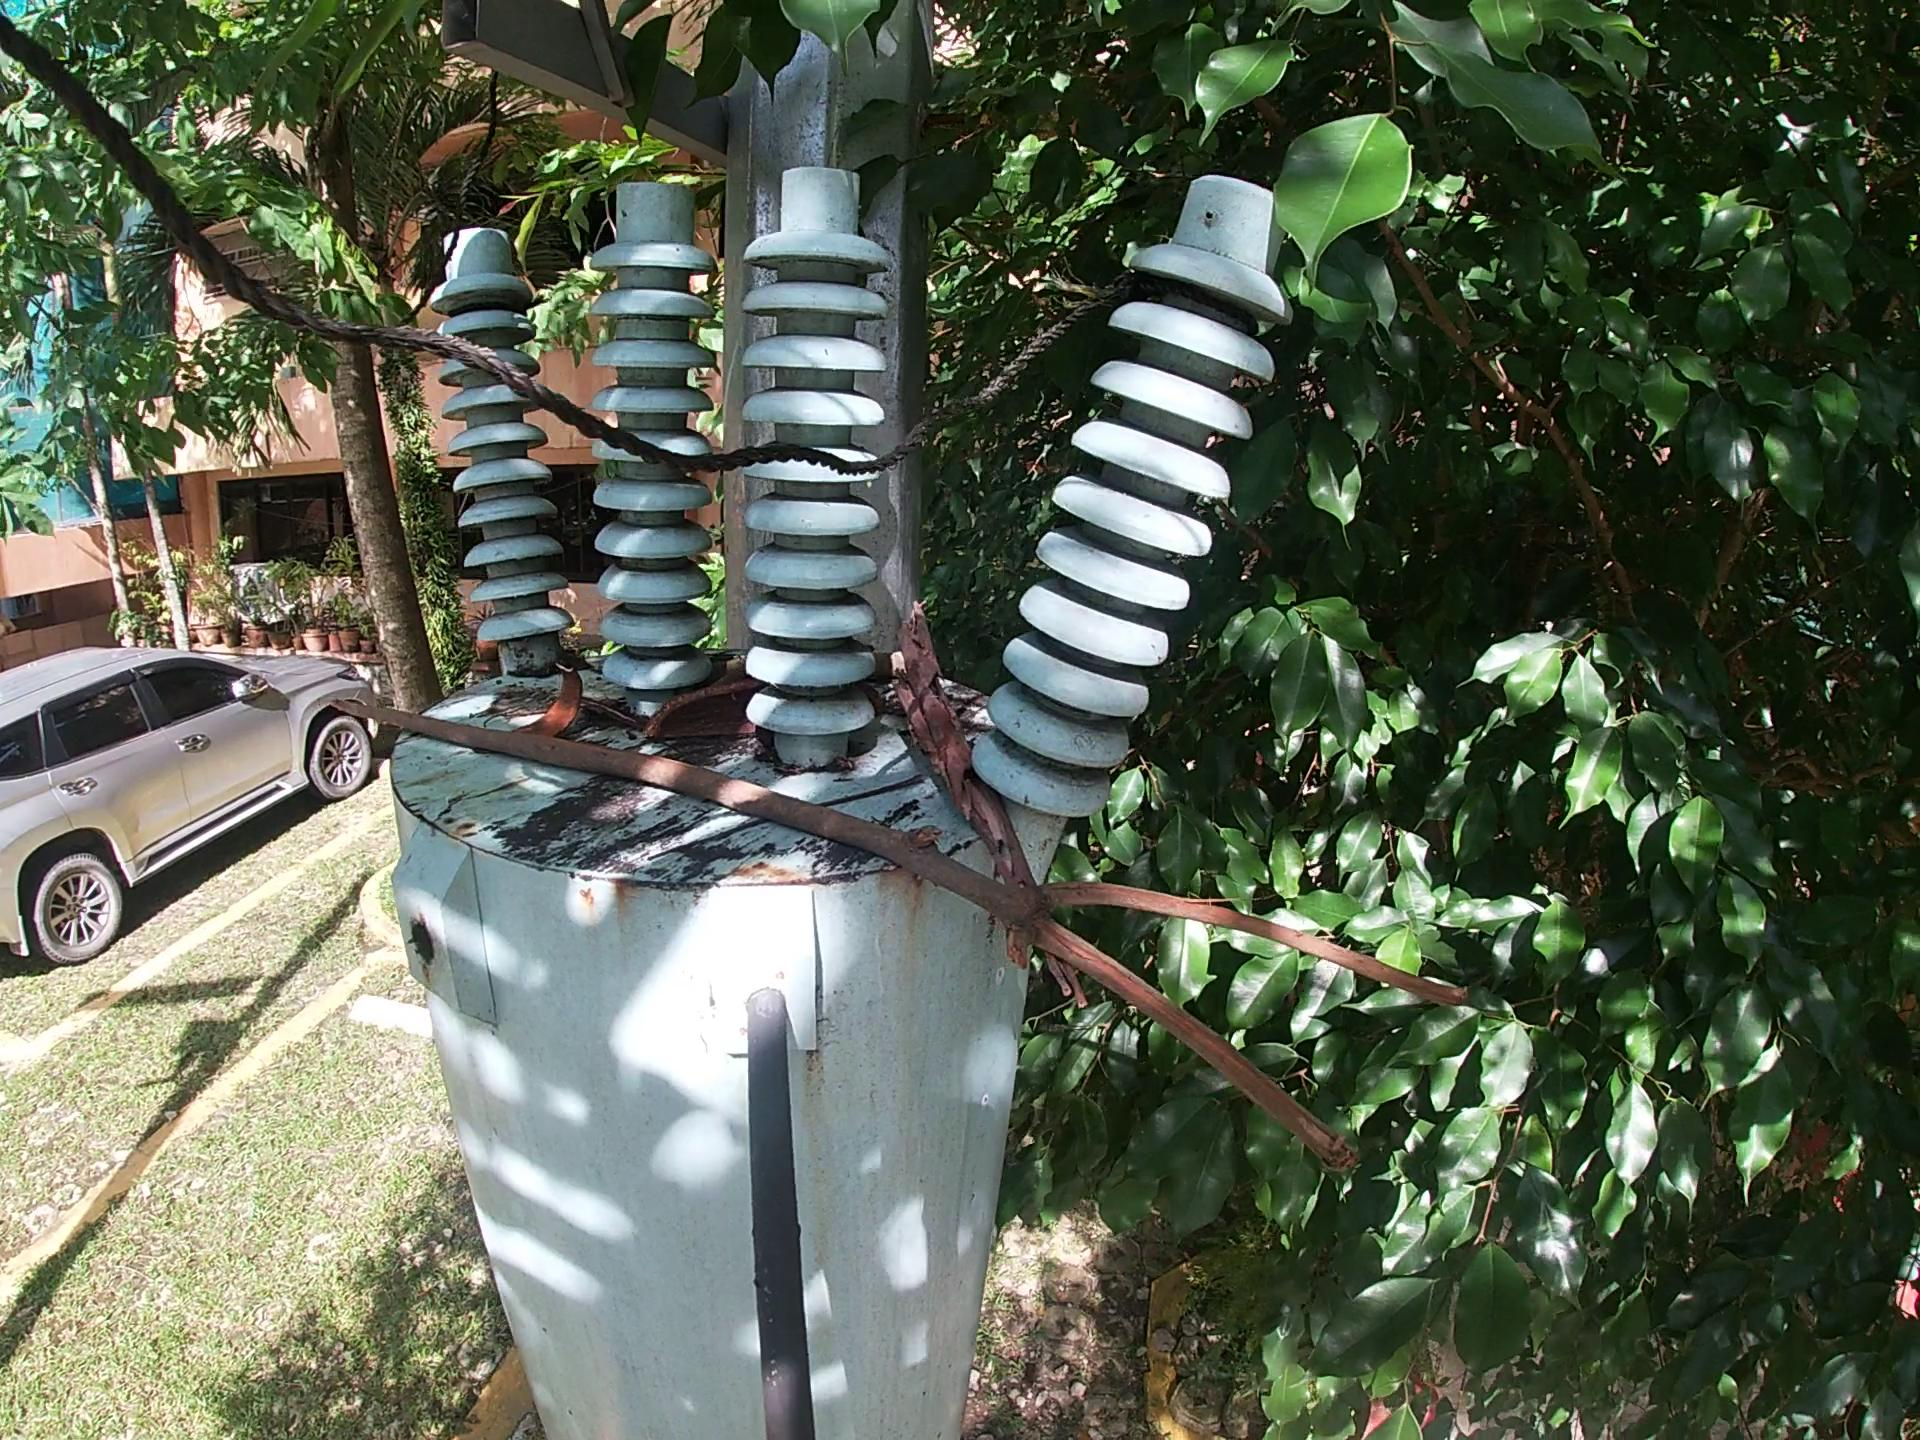mahogany fruit: (633, 678, 774, 753), (506, 659, 590, 746)
tree branch: (317, 687, 1485, 1177), (884, 590, 1101, 1030)
